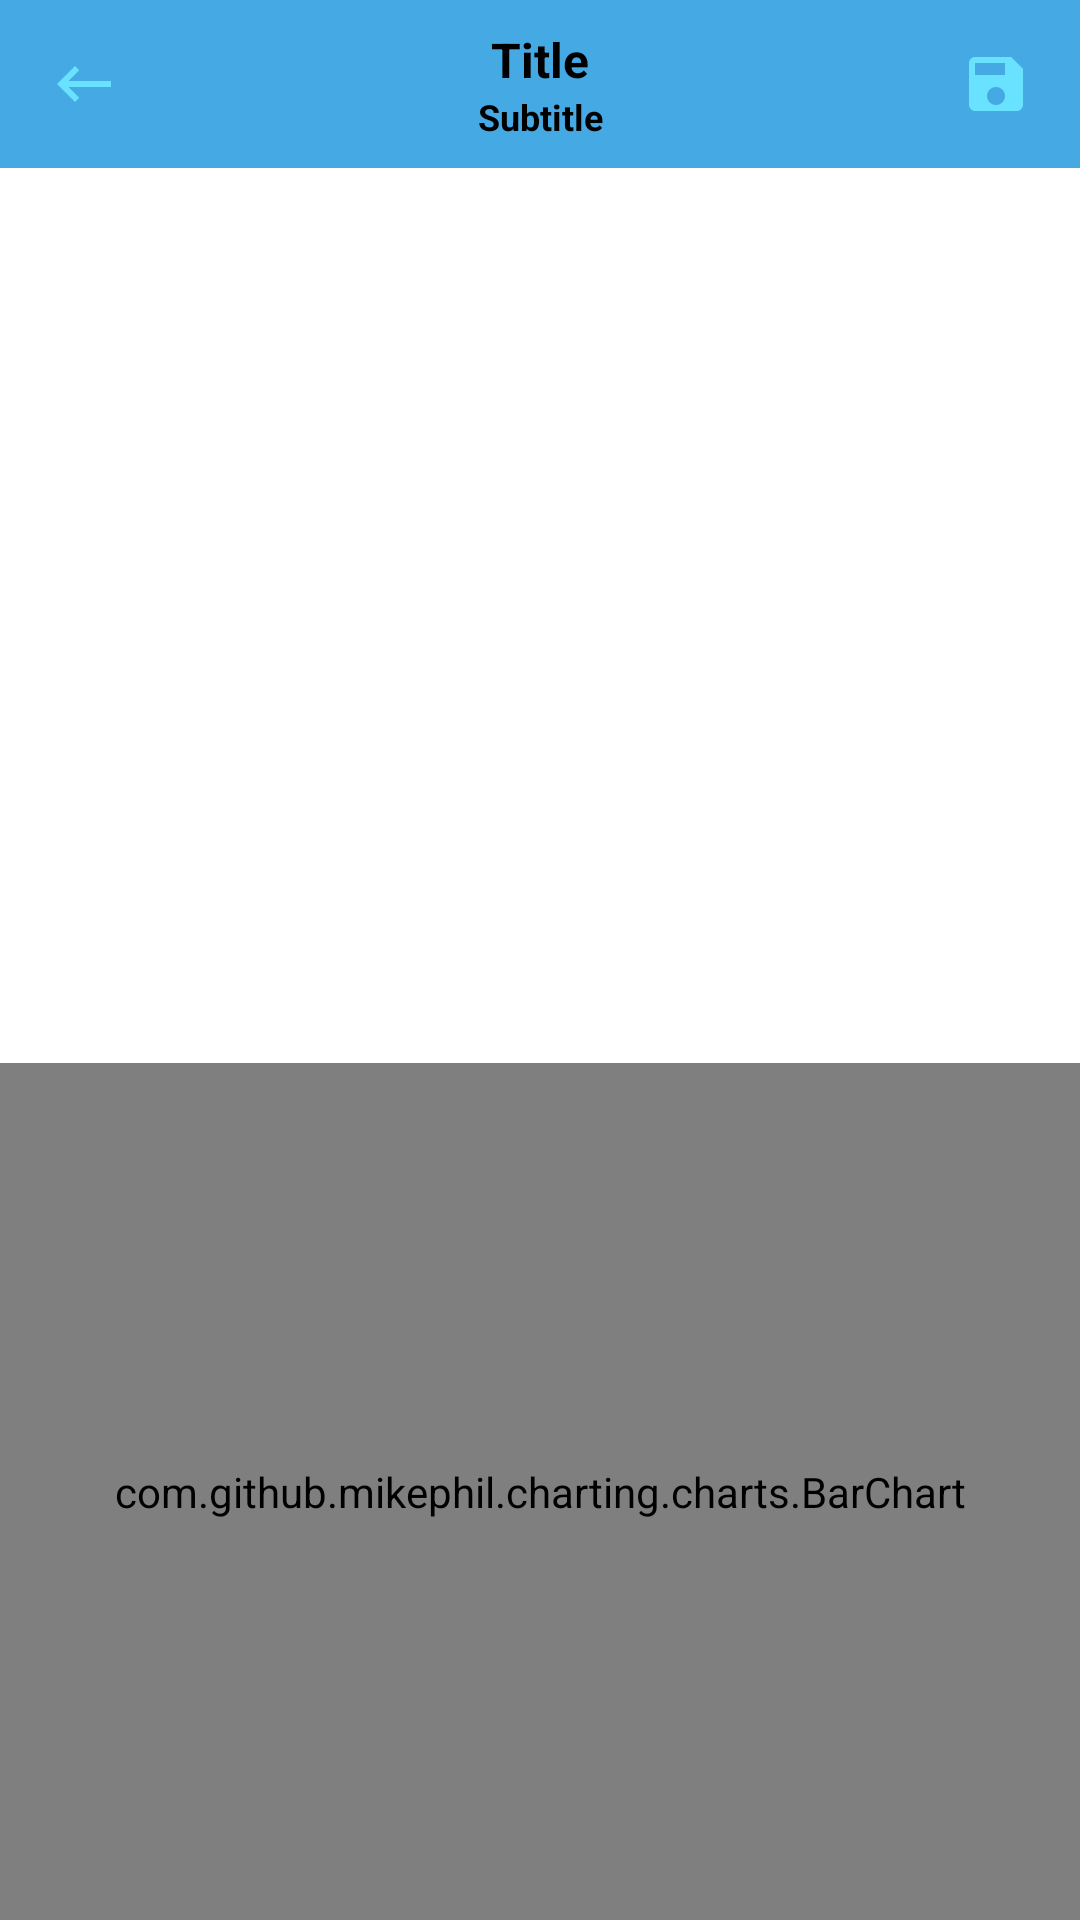

Icon click points for this 1080px x 1920px phone screenshot, format point (x, y):
back: point (84, 84)
save: point (996, 84)
